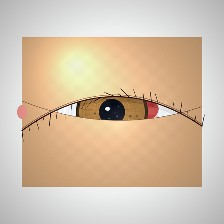hemorrhage_spot: (108, 85, 167, 133)
